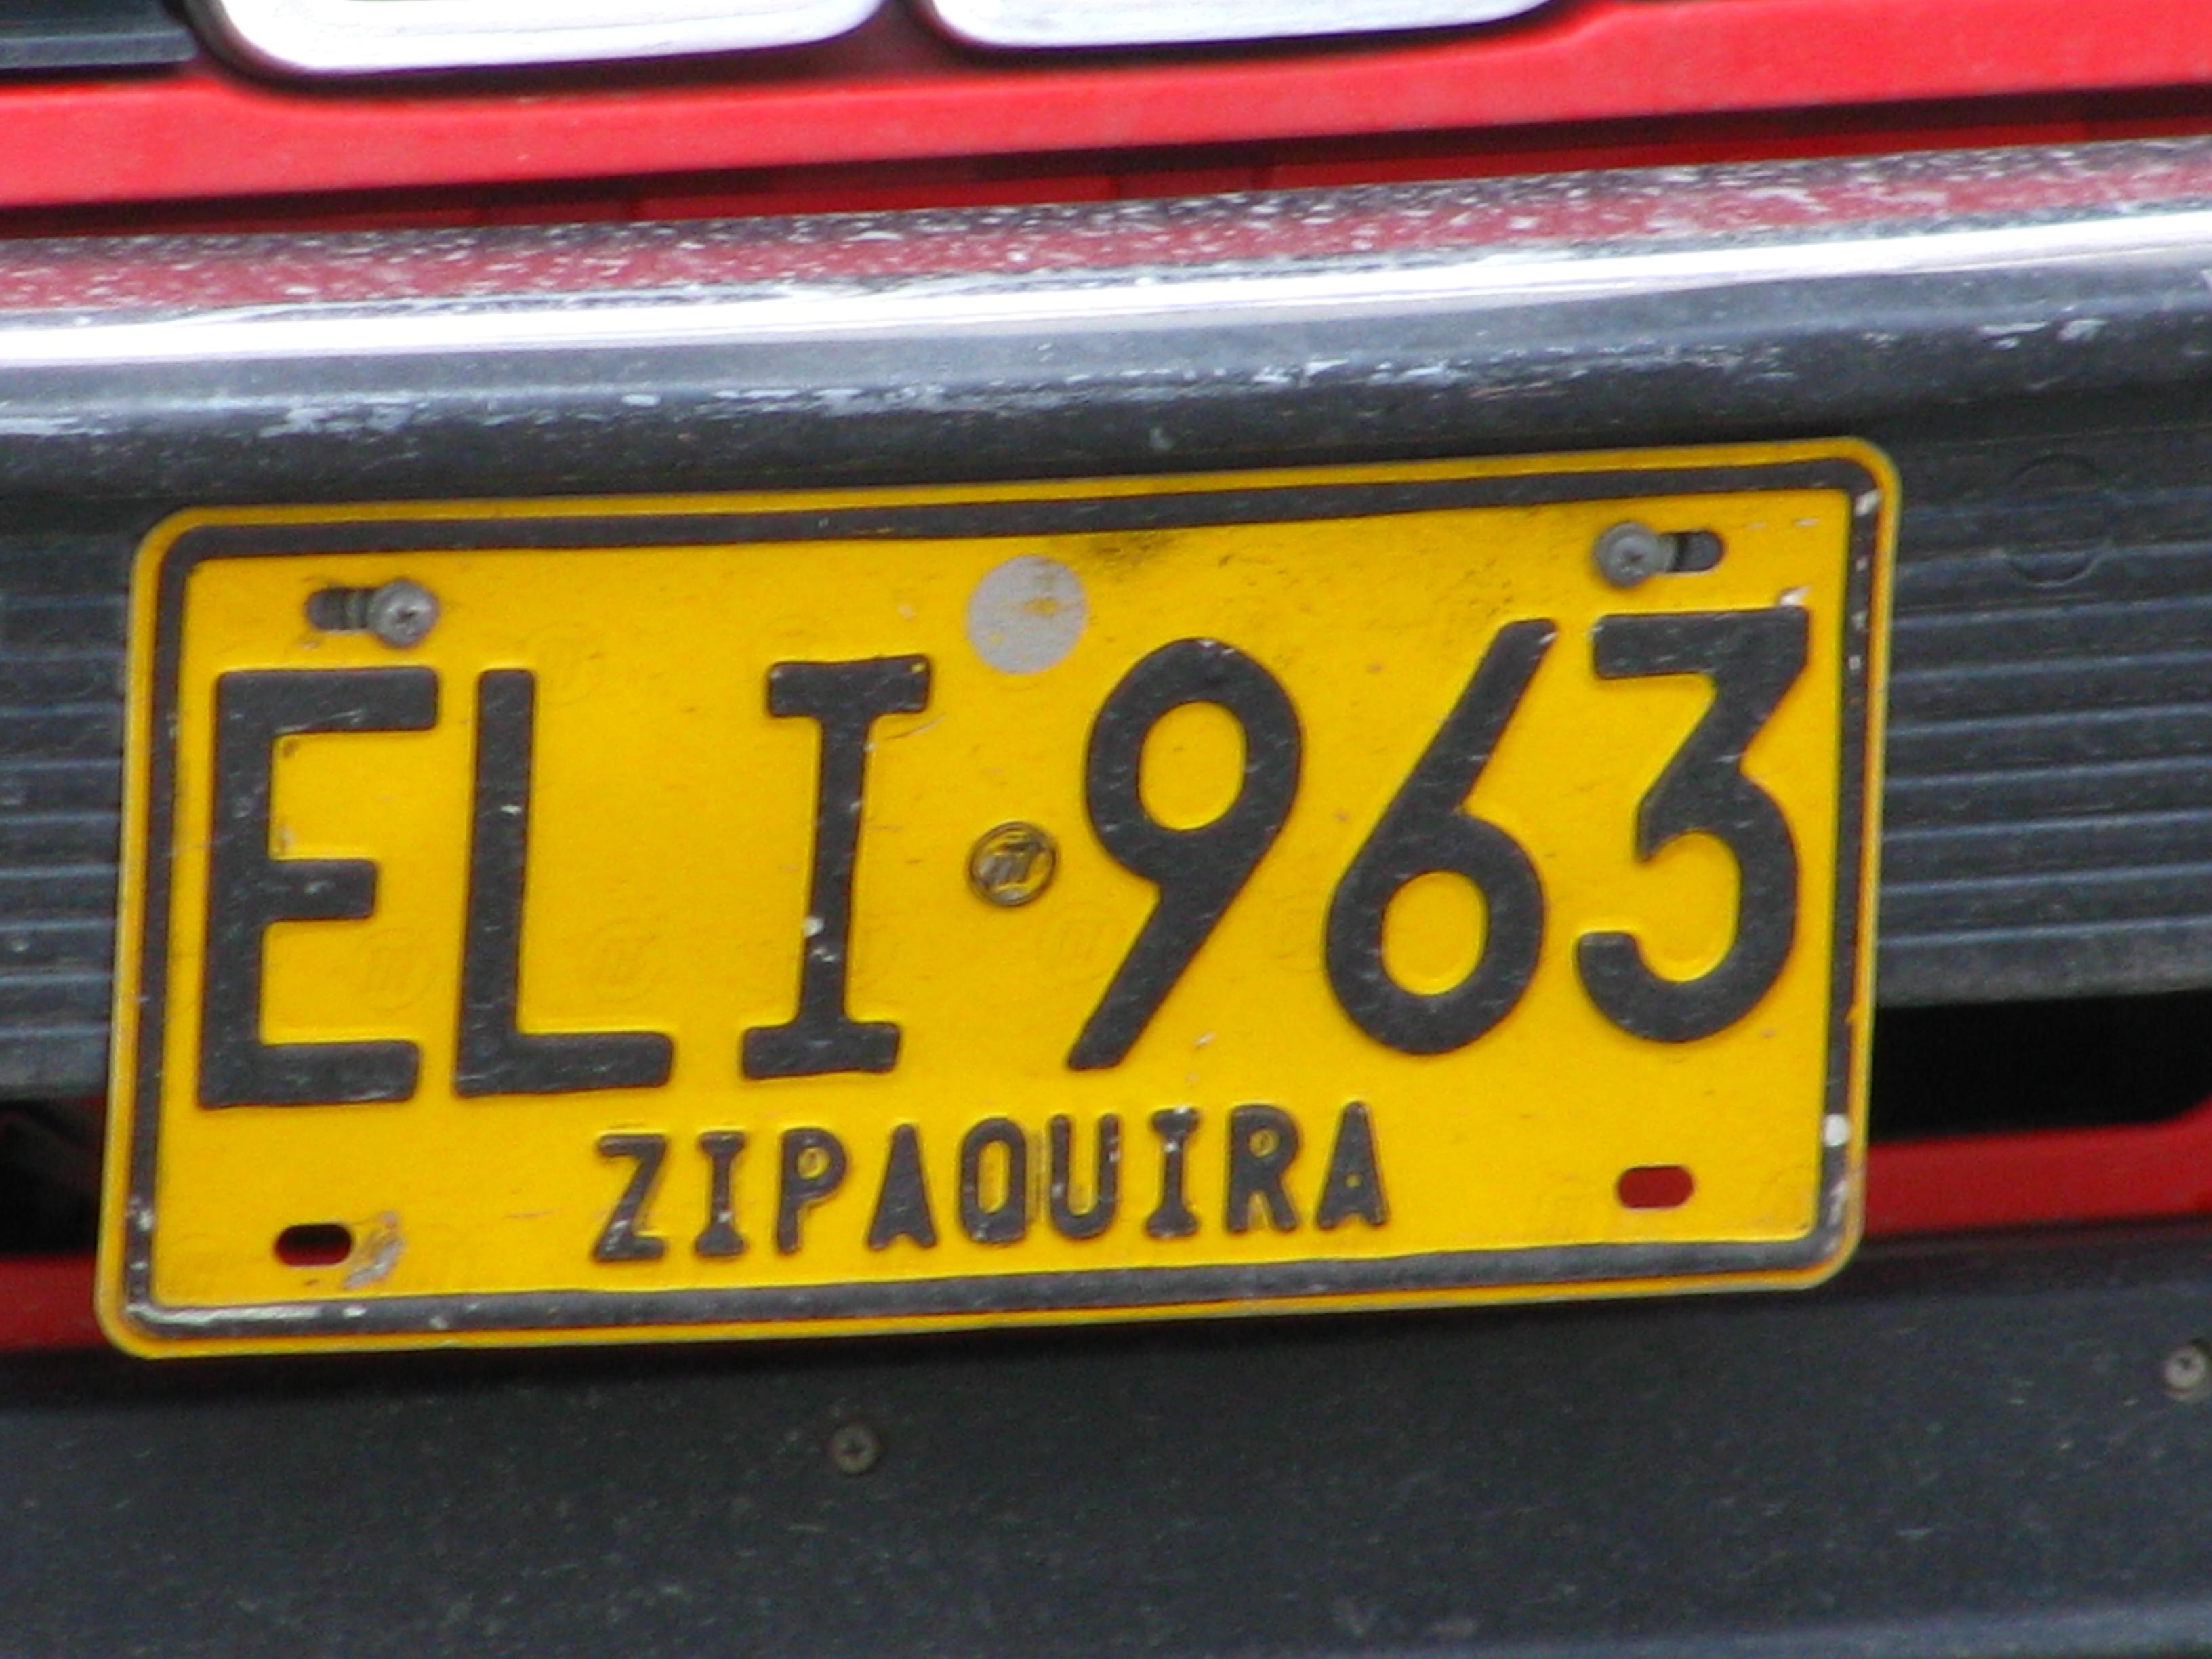placas: (79, 419, 1910, 1375)
